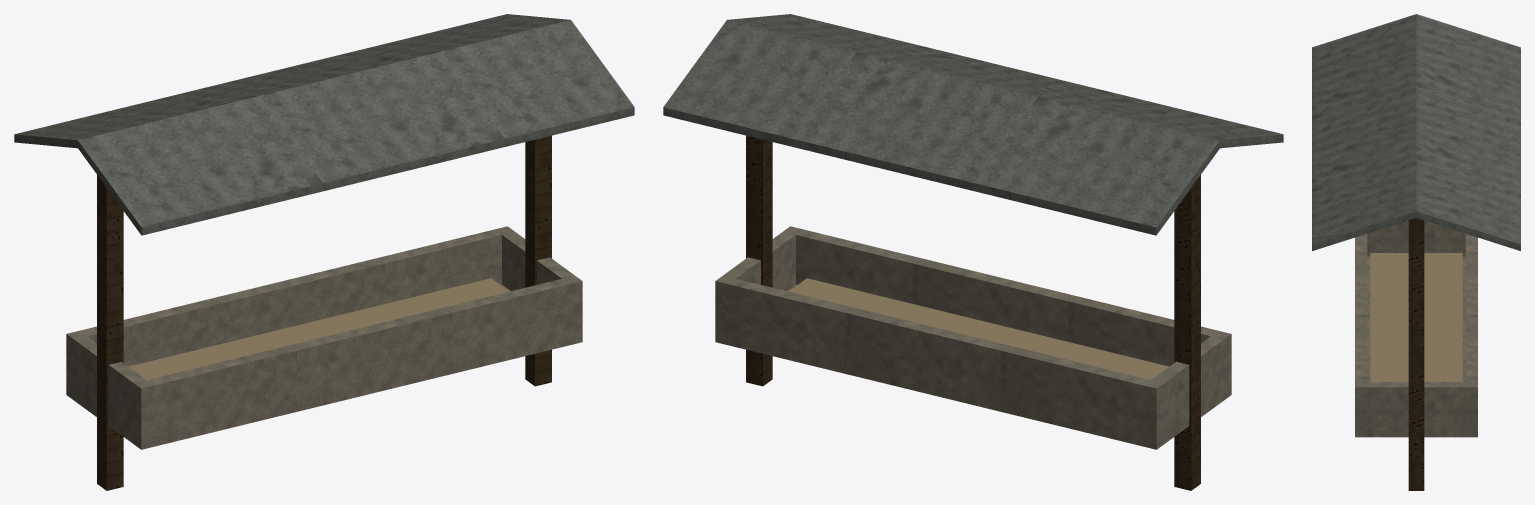
The model's file is RURAL_cocho_coberto.gltf.
The picture shows the model from 3 angles, left to right: view 1: azimuth 30°, elevation 25°; view 2: azimuth 150°, elevation 25°; view 3: azimuth 270°, elevation 25°; orthographic projection. The views are drawn at different scales.
Parts seen in each view (by area): view 1: cocho_coberto_TELHADO, cocho_coberto_BORDA, cocho_coberto_POSTE, cocho_coberto_RACAO; view 2: cocho_coberto_TELHADO, cocho_coberto_BORDA, cocho_coberto_POSTE, cocho_coberto_RACAO; view 3: cocho_coberto_TELHADO, cocho_coberto_BORDA, cocho_coberto_RACAO, cocho_coberto_POSTE, cocho_coberto_FUNDO.
Part boxes in pixels (x1=…): cocho_coberto_TELHADO: x1=14, y1=14, x2=634, y2=235; cocho_coberto_BORDA: x1=66, y1=226, x2=582, y2=449; cocho_coberto_POSTE: x1=97, y1=135, x2=551, y2=490; cocho_coberto_RACAO: x1=129, y1=278, x2=508, y2=379; cocho_coberto_TELHADO: x1=663, y1=14, x2=1283, y2=235; cocho_coberto_BORDA: x1=715, y1=226, x2=1231, y2=449; cocho_coberto_POSTE: x1=746, y1=135, x2=1200, y2=490; cocho_coberto_RACAO: x1=789, y1=278, x2=1168, y2=379; cocho_coberto_TELHADO: x1=1312, y1=14, x2=1520, y2=250; cocho_coberto_BORDA: x1=1355, y1=220, x2=1477, y2=437; cocho_coberto_RACAO: x1=1370, y1=253, x2=1462, y2=381; cocho_coberto_POSTE: x1=1408, y1=218, x2=1424, y2=490; cocho_coberto_FUNDO: x1=1367, y1=256, x2=1465, y2=381.
Bounding box in the file's own units: 3.8 × 2.6 × 1.7.
4 materials, 3 textured.
